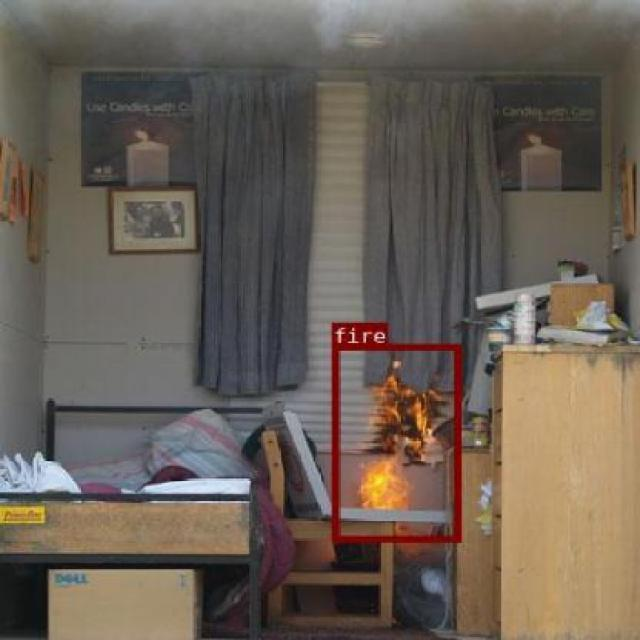Fire: (339, 354, 454, 536)
